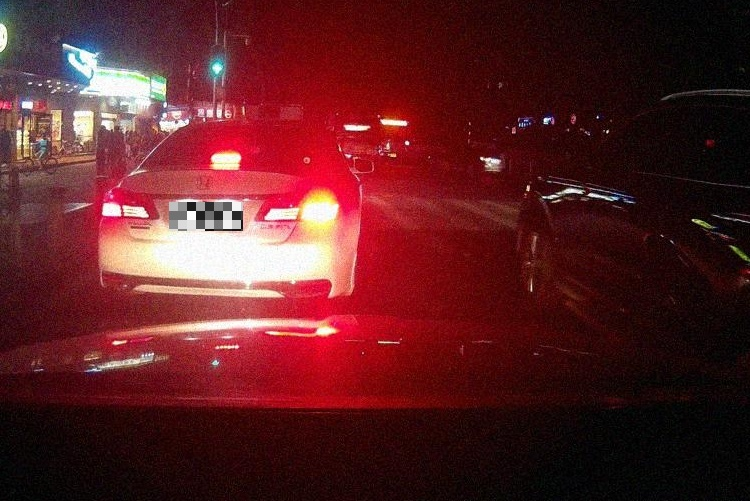L_light: (101, 186, 161, 220)
R_light: (254, 190, 338, 222)
T_light: (211, 153, 241, 164)
night-right: (98, 119, 341, 314)
plate_1: (169, 202, 243, 231)
